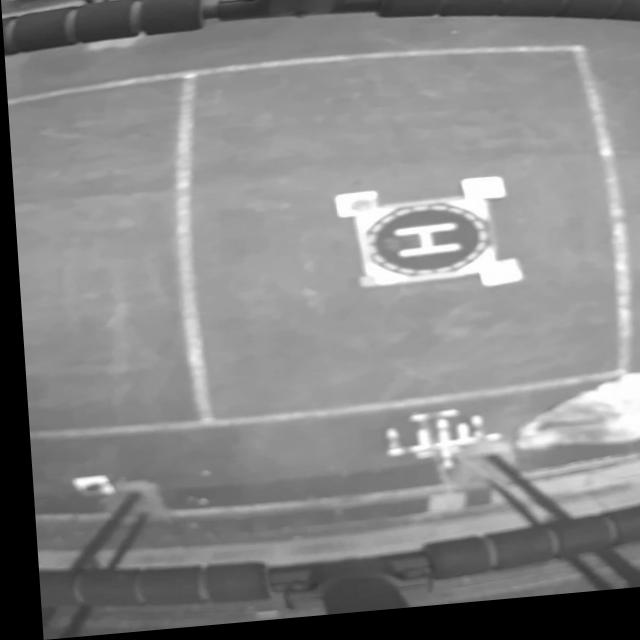Helipad: (389, 230, 458, 265)
